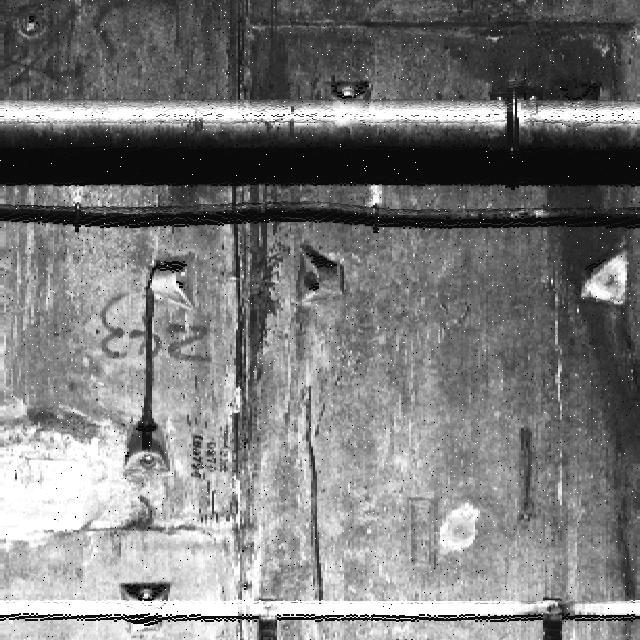leakage: (451, 1, 637, 615), (214, 1, 298, 597)
